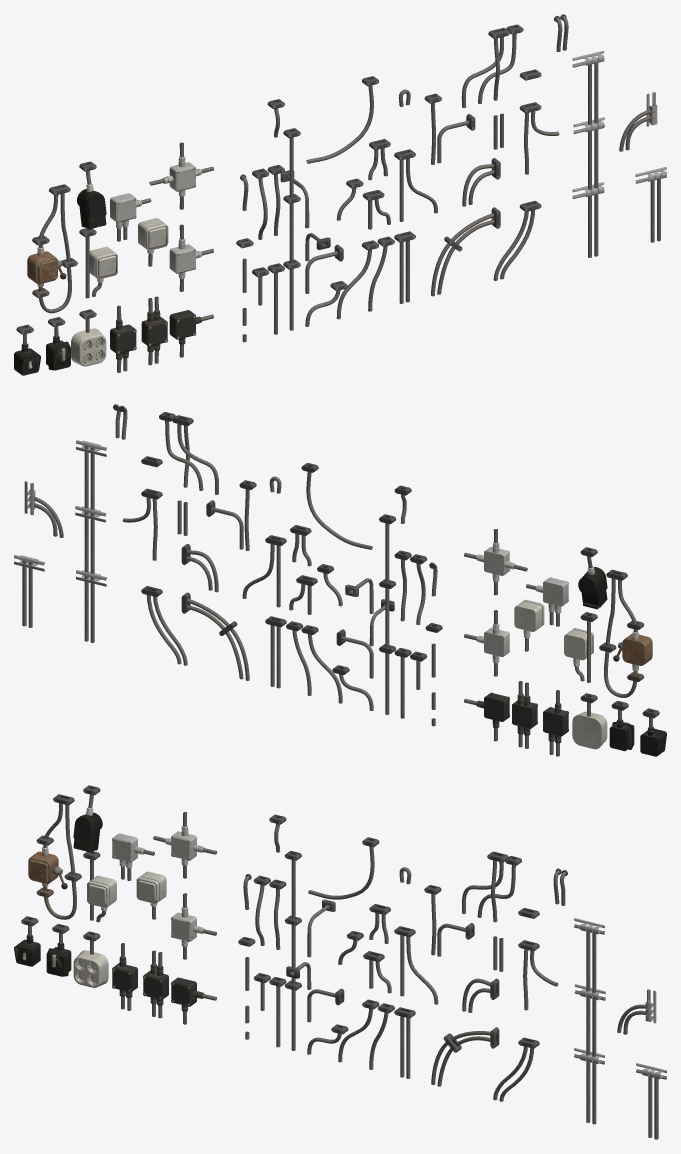
File: modular_electric_cables.gltf
3 renders of one model, top to bottom at view 1: azimuth 30°, elevation 25°; view 2: azimuth 150°, elevation 25°; view 3: azimuth 330°, elevation 25°, orthographic.
Visible parts, largest first — view 1: cable_double_alt_long, cable_switch, cable_plug_4x, cable_3way_junction, cable_lightswitch_double, cable_straight_long, cable_plug_covered_2, cable_double_turn_long, cable_box_double, cable_box_4way, cable_box_3way, cable_box_double_to_single (+14 smaller); view 2: cable_double_alt_long, cable_switch, cable_3way_junction, cable_plug_4x, cable_straight_long, cable_lightswitch_double, cable_double_turn_long, cable_plug_covered_2, cable_box_double, cable_box_4way, cable_box_double_to_single_2, cable_box_3way (+14 smaller); view 3: cable_double_alt_long, cable_switch, cable_plug_4x, cable_3way_junction, cable_straight_long, cable_plug_covered_2, cable_lightswitch_double, cable_box_4way, cable_box_double, cable_double_turn_long, cable_box_3way, cable_box_double_to_single (+14 smaller).
Boxes of the visible parts, left/top/right/bottom form: cable_double_alt_long: left=572, top=50, right=604, bottom=257; cable_switch: left=27, top=184, right=77, bottom=313; cable_plug_4x: left=71, top=309, right=106, bottom=366; cable_3way_junction: left=461, top=24, right=523, bottom=107; cable_lightswitch_double: left=79, top=228, right=117, bottom=298; cable_straight_long: left=283, top=128, right=300, bottom=330; cable_plug_covered_2: left=77, top=161, right=106, bottom=228; cable_double_turn_long: left=431, top=207, right=500, bottom=296; cable_box_double: left=141, top=296, right=167, bottom=365; cable_box_4way: left=149, top=142, right=213, bottom=209; cable_box_3way: left=169, top=224, right=213, bottom=291; cable_box_double_to_single: left=110, top=305, right=136, bottom=372; cable_double_alt_long: left=75, top=440, right=106, bottom=642; cable_switch: left=599, top=569, right=652, bottom=697; cable_3way_junction: left=159, top=412, right=218, bottom=494; cable_plug_4x: left=572, top=693, right=607, bottom=749; cable_straight_long: left=379, top=514, right=396, bottom=714; cable_lightswitch_double: left=564, top=612, right=597, bottom=682; cable_double_turn_long: left=181, top=592, right=249, bottom=680; cable_plug_covered_2: left=578, top=547, right=607, bottom=609; cable_box_double: left=512, top=681, right=537, bottom=748; cable_box_4way: left=464, top=529, right=527, bottom=595; cable_box_double_to_single_2: left=526, top=577, right=568, bottom=626; cable_box_3way: left=464, top=610, right=509, bottom=676; cable_double_alt_long: left=574, top=918, right=605, bottom=1124; cable_switch: left=28, top=794, right=81, bottom=919; cable_plug_4x: left=73, top=931, right=108, bottom=987; cable_3way_junction: left=462, top=851, right=521, bottom=922; cable_straight_long: left=284, top=851, right=301, bottom=1050; cable_plug_covered_2: left=73, top=785, right=102, bottom=852; cable_lightswitch_double: left=83, top=851, right=116, bottom=922; cable_box_4way: left=153, top=812, right=216, bottom=878; cable_box_double: left=143, top=950, right=168, bottom=1018; cable_double_turn_long: left=431, top=1027, right=499, bottom=1086; cable_box_3way: left=171, top=893, right=216, bottom=959; cable_box_double_to_single: left=112, top=943, right=137, bottom=1010.
Size of the model in its own units: 2.08 by 0.7573 by 0.2145.
2 materials, 2 textured.
